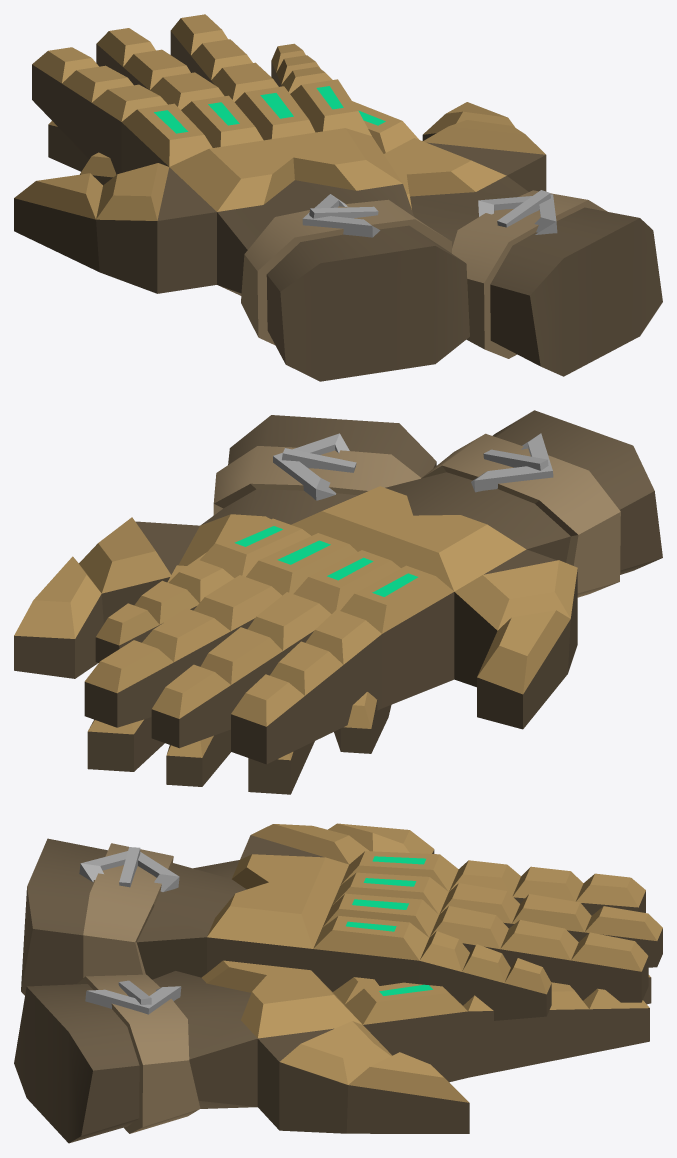
The model's file is GiantKinGauntlets.fbx.
3 views of the same model, one above another, from view 1: azimuth 30°, elevation 25°; view 2: azimuth 150°, elevation 25°; view 3: azimuth 270°, elevation 25° (orthographic). The views are drawn at different scales.
Parts seen in each view (by area): view 1: GiantKinGauntlets; view 2: GiantKinGauntlets; view 3: GiantKinGauntlets.
Part boxes in pixels (box(x1,y1,x2,y2)): GiantKinGauntlets: box(14, 14, 662, 381); GiantKinGauntlets: box(14, 410, 662, 794); GiantKinGauntlets: box(14, 823, 662, 1143).
Size of the model in its own units: 3.11 by 1.09 by 3.98.
